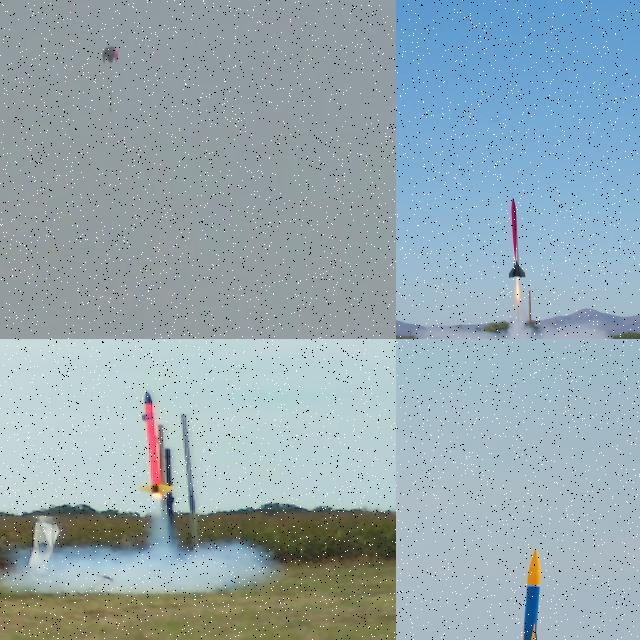Rocket: (136, 390, 176, 494), (511, 548, 552, 640), (508, 197, 527, 279), (110, 89, 112, 114)
